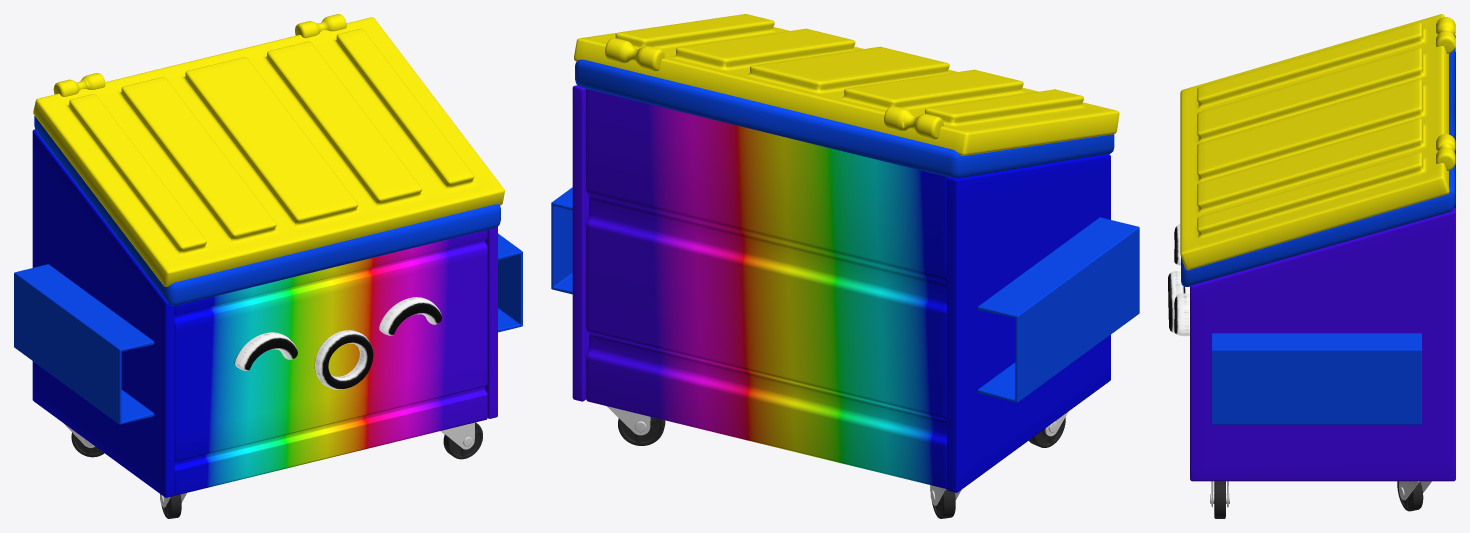
The picture shows the model from 3 angles, left to right: view 1: azimuth 30°, elevation 25°; view 2: azimuth 150°, elevation 25°; view 3: azimuth 270°, elevation 25°; orthographic projection. The views are drawn at different scales.
Visible parts, largest first — view 1: Dumpster Geometry, Wheel Holder; view 2: Dumpster Geometry, Wheel Holder; view 3: Dumpster Geometry, Wheel Holder.
Boxes of the visible parts, <box> form: Dumpster Geometry: <box>14,14,522,518</box>; Wheel Holder: <box>63,422,474,507</box>; Dumpster Geometry: <box>551,14,1139,518</box>; Wheel Holder: <box>606,406,1068,505</box>; Dumpster Geometry: <box>1168,14,1455,518</box>; Wheel Holder: <box>1210,481,1431,507</box>.
Bounding box in the file's own units: 2.3 × 1.97 × 1.43.
7 materials, 3 textured.
